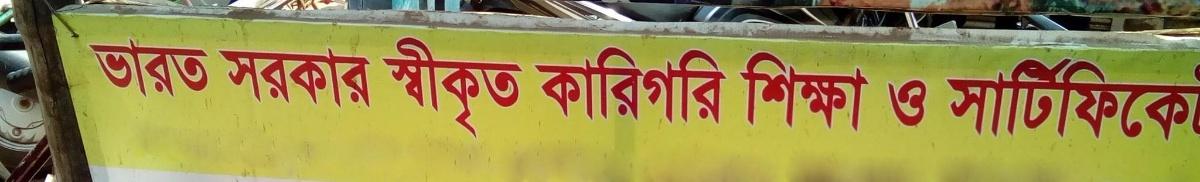text: (385, 36, 400, 140), (401, 36, 416, 140), (417, 36, 432, 140), (433, 36, 448, 140), (449, 36, 464, 140), (465, 36, 480, 140), (481, 36, 496, 140), (497, 36, 512, 140), (513, 36, 526, 140), (961, 56, 976, 144), (977, 56, 992, 144), (993, 56, 1008, 144), (1009, 56, 1024, 144), (1025, 56, 1040, 144), (1041, 56, 1056, 144), (1057, 56, 1072, 144), (1073, 56, 1088, 144), (1089, 56, 1104, 144), (1105, 56, 1120, 144), (1121, 56, 1136, 144), (1137, 56, 1152, 144), (1153, 56, 1168, 144), (1169, 56, 1184, 144), (1185, 56, 1200, 144), (545, 42, 560, 126), (561, 42, 576, 126), (577, 42, 592, 126), (593, 42, 608, 126), (609, 42, 624, 126), (625, 42, 640, 126), (641, 42, 656, 126), (657, 42, 672, 126), (673, 42, 688, 126), (689, 42, 704, 126), (705, 42, 720, 126), (753, 50, 768, 133), (769, 50, 784, 133), (785, 50, 800, 133), (801, 50, 816, 133), (817, 50, 832, 133), (833, 50, 848, 133), (849, 50, 864, 133), (946, 56, 960, 144), (739, 50, 752, 133), (225, 46, 240, 112), (241, 46, 256, 112), (257, 46, 272, 112), (273, 46, 288, 112), (289, 46, 304, 112), (305, 46, 320, 112), (321, 46, 336, 112), (337, 46, 352, 112), (353, 46, 368, 112), (533, 42, 544, 126), (97, 38, 112, 98), (113, 38, 128, 98), (129, 38, 144, 98), (145, 38, 160, 98), (161, 38, 176, 98), (177, 38, 192, 98), (193, 38, 208, 98), (897, 78, 912, 130), (913, 78, 928, 130), (87, 38, 96, 98), (216, 46, 224, 112), (886, 78, 896, 130), (721, 42, 727, 126), (380, 36, 384, 140), (369, 46, 374, 112), (865, 50, 868, 133), (209, 38, 210, 98)
